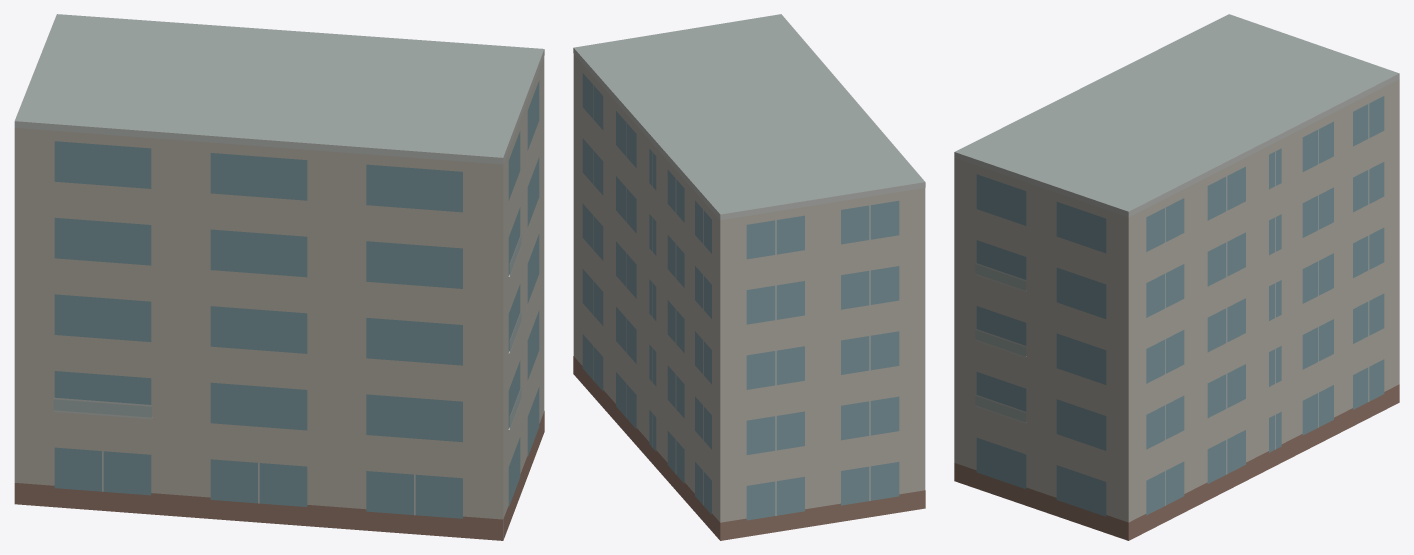
Rendered from survey-upis-32683682.glb.
3 views of the same model, side by side, from view 1: azimuth 30°, elevation 25°; view 2: azimuth 150°, elevation 25°; view 3: azimuth 270°, elevation 25° (orthographic). The views are drawn at different scales.
Visible parts, largest first — view 1: survey-upis-32683682.tmp; view 2: survey-upis-32683682.tmp; view 3: survey-upis-32683682.tmp.
Part boxes in pixels (x1,y1,x2,y2): survey-upis-32683682.tmp: (14,14,544,540); survey-upis-32683682.tmp: (573,14,925,540); survey-upis-32683682.tmp: (954,14,1399,540).
Size of the model in its own units: 18.04 by 14 by 17.17.
